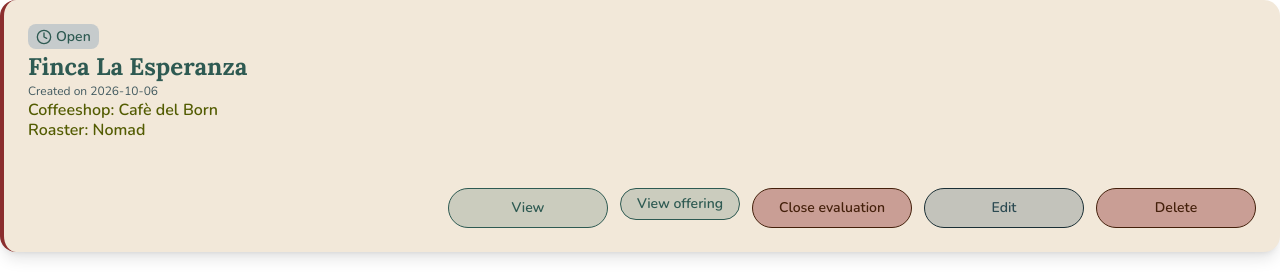
EvaluationRowCard: Close on open rows (close-evaluation-only-when-saved) › The row's close finds the evaluation incomplete
Click the button "Close evaluation" at (832, 208), box [752,188,912,228]
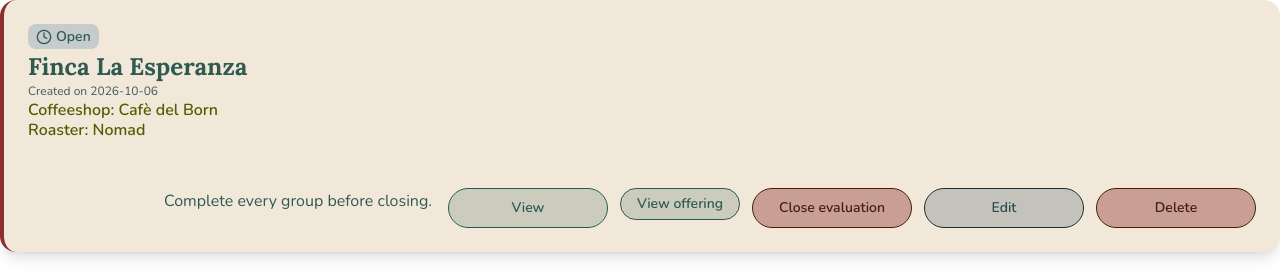
Check: the button "Edit" is shown, box [924,188,1084,228]
Check: the message reads "Complete every group before closing.", box [164,190,432,212]
